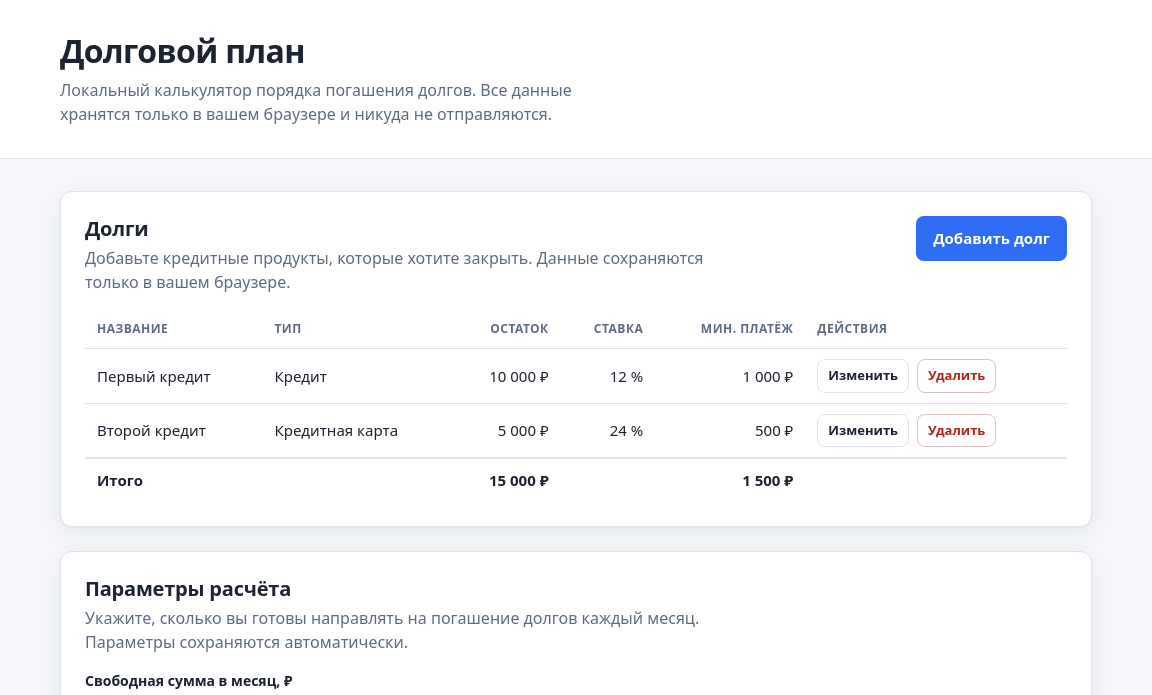
Test: FE-009: удаление долга с подтверждением › при отмене закрывает диалог и сохраняет оба долга
Click the button "Удалить" in the row of "Первый кредит": [957, 376] box [917,359,996,393]
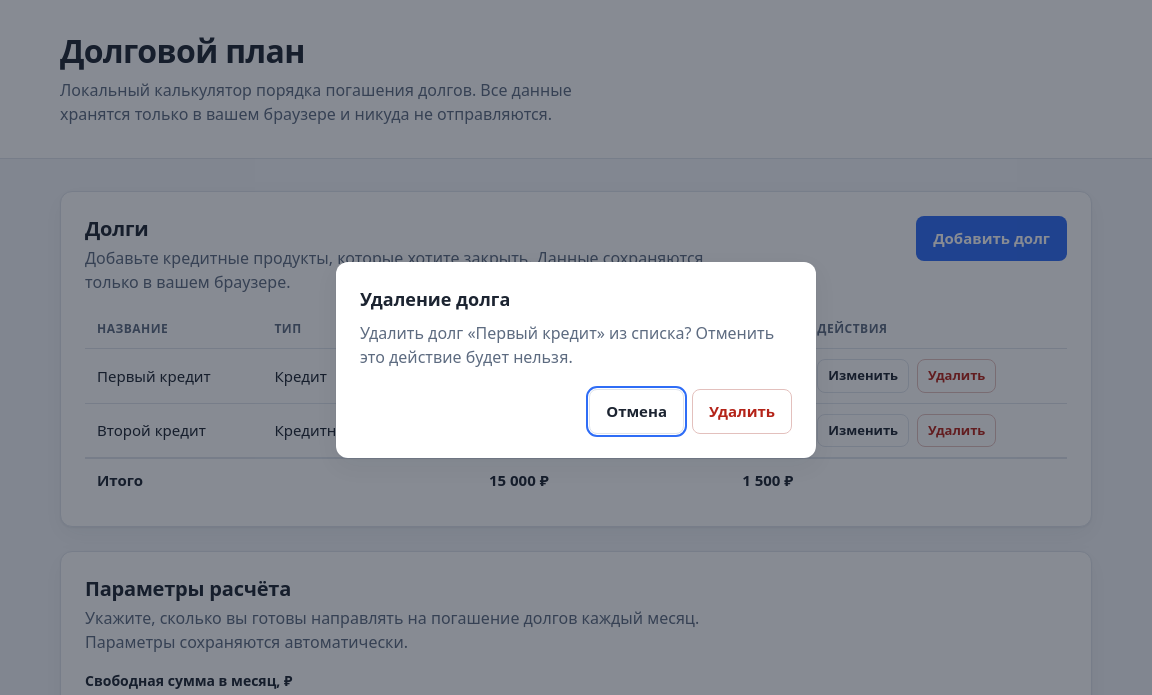
Click the button "Отмена": [637, 412] box [589,389,684,434]
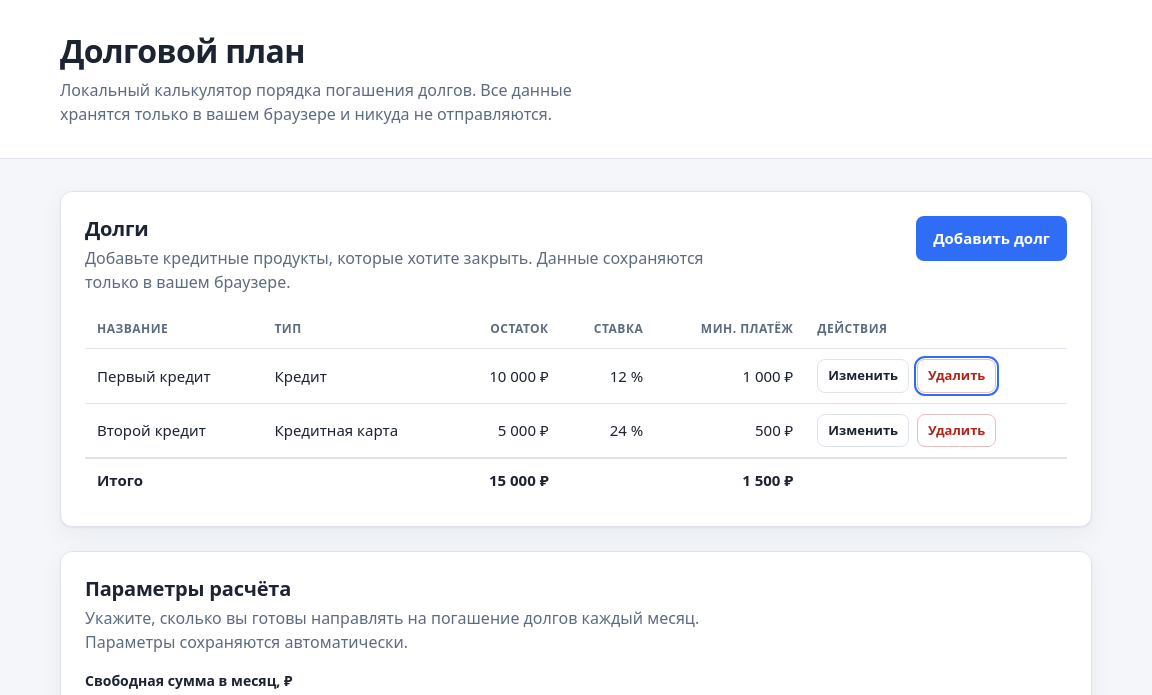
Expected: the text "Первый кредит" is shown, [85,349,262,403]
Result: the heading "Удаление долга" is gone
